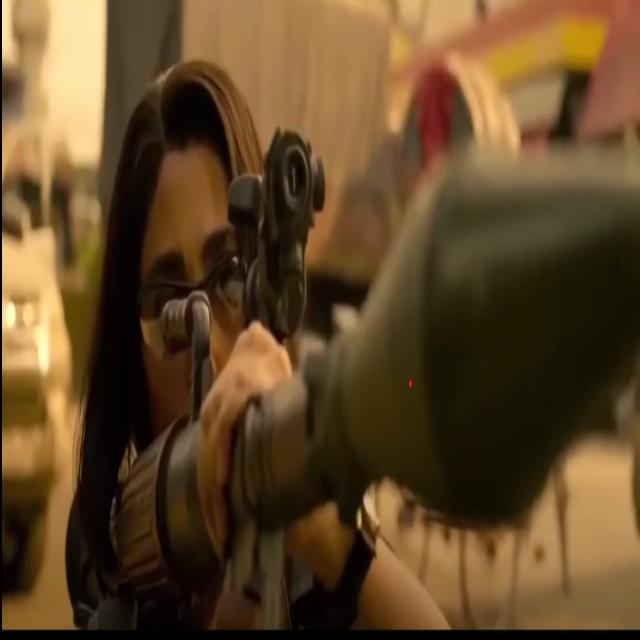bazooka: (82, 54, 640, 640)
